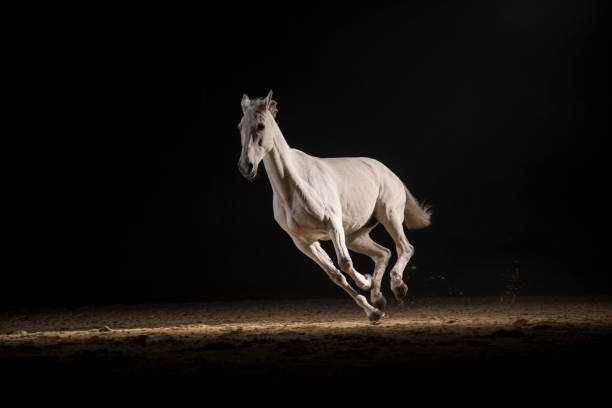Horse: (227, 82, 440, 328)
